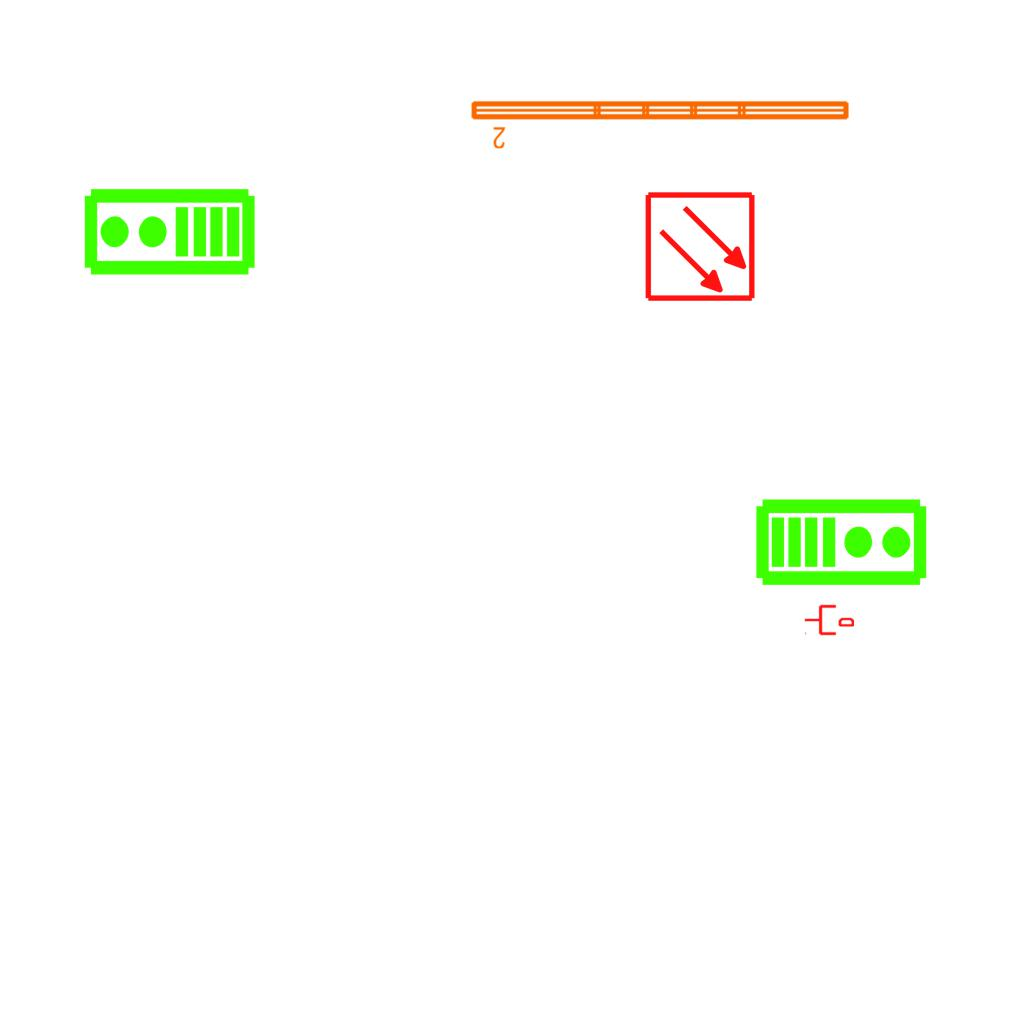Ambulanz_Pendelleuchte_LED: (467, 95, 854, 151)
Datenanschluss_einfach: (804, 603, 854, 637)
Gegensprechanlage_mit_Video: (81, 186, 257, 281), (754, 493, 930, 588)
RMO_Rauchmelder_optischer: (644, 190, 757, 303)
